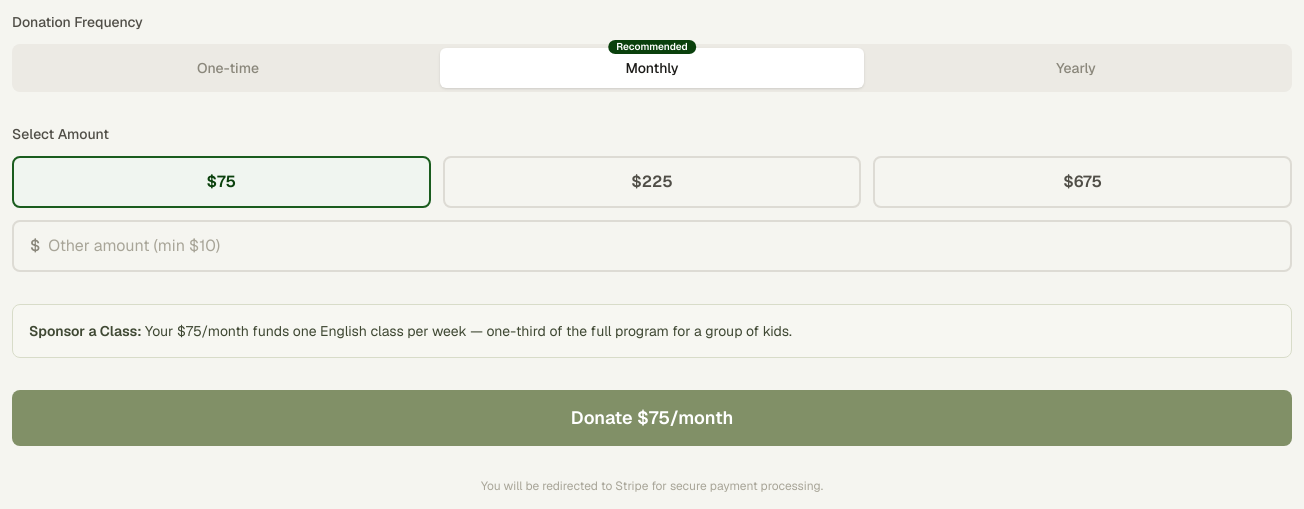
Test: DonationForm › amount selection › switches back to preset after selecting custom
In the number field with placeholder "Other amount (min $10)": (661, 246) left=48, top=234, right=1274, bottom=258, type "80"
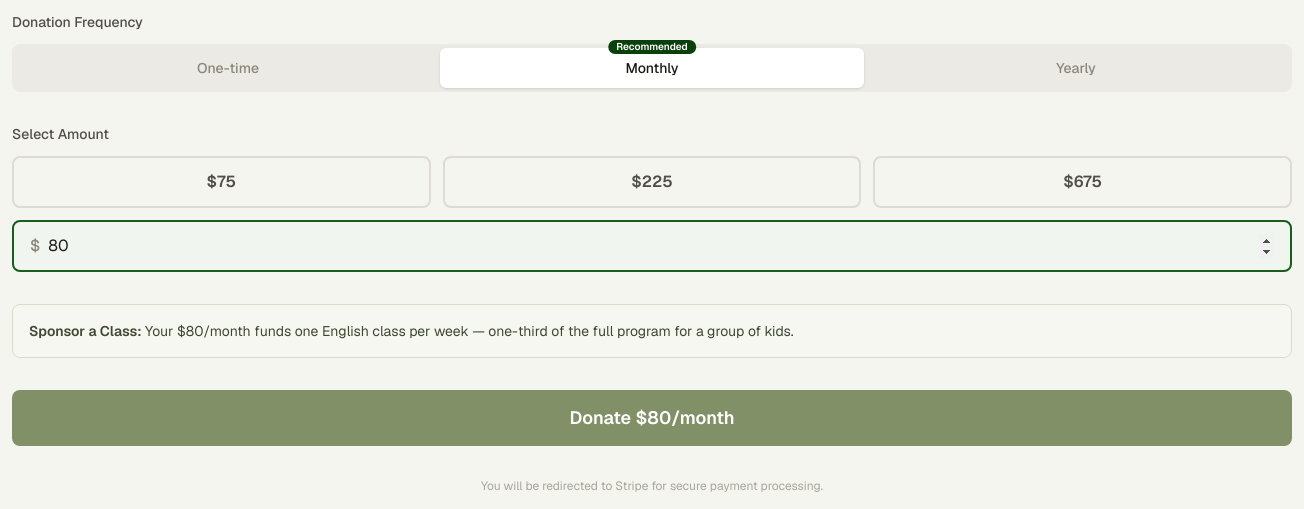
Click the button "$225": (652, 182) left=443, top=156, right=861, bottom=208
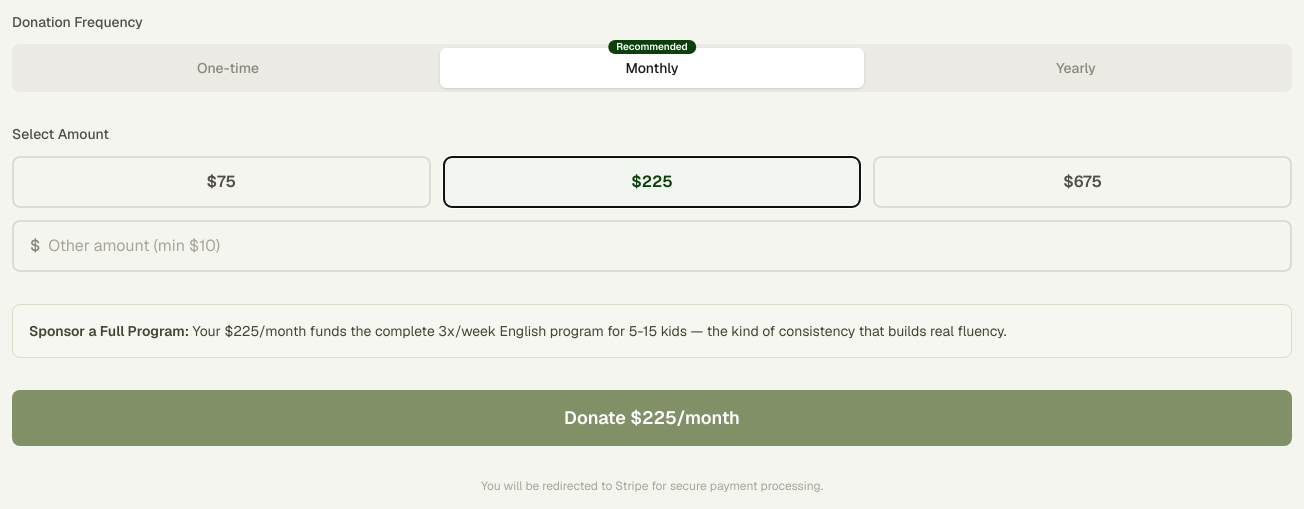
Expected: the button "Donate $225/month" is shown, left=12, top=390, right=1292, bottom=446
